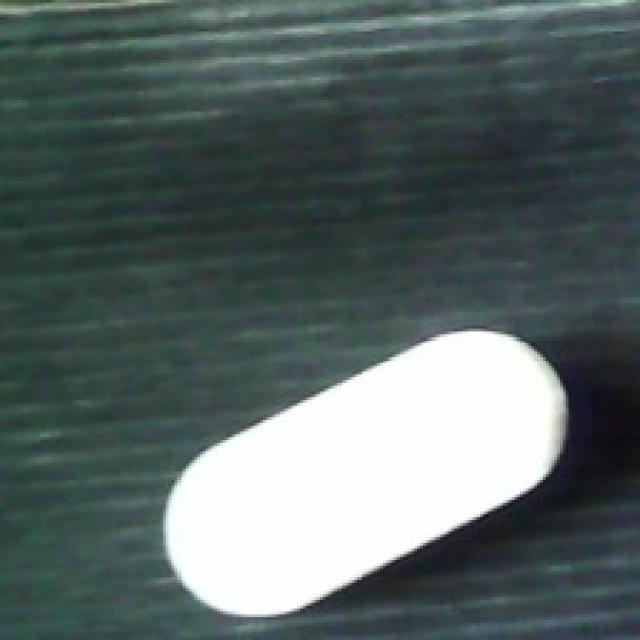no-defect: (160, 328, 571, 614)
